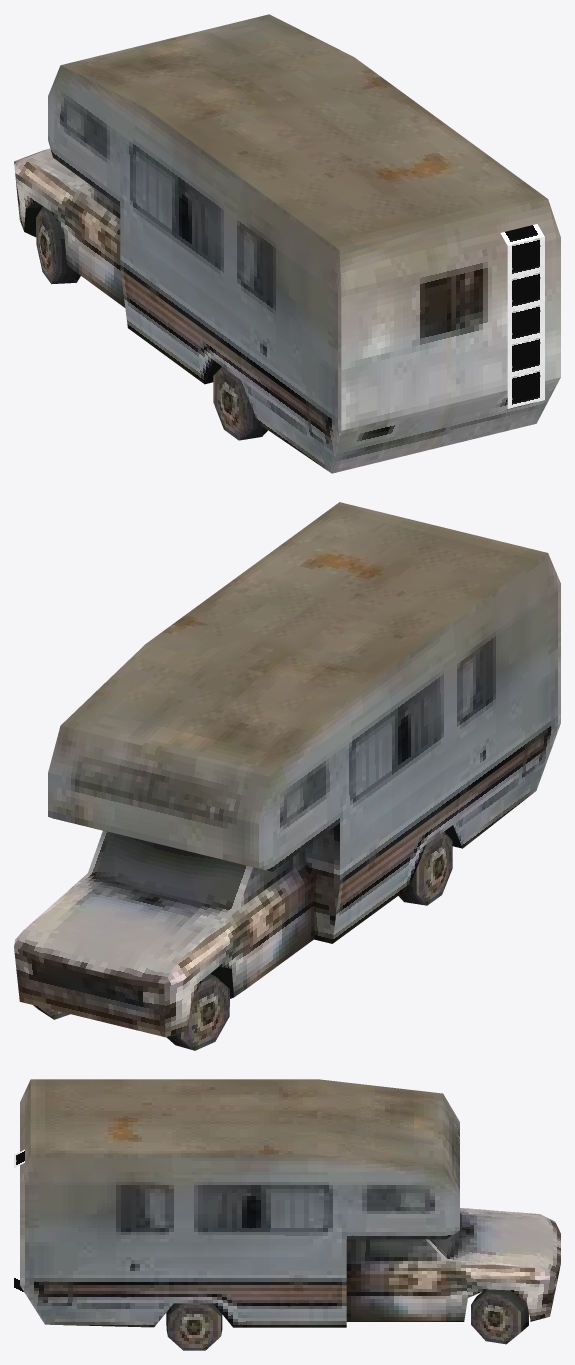
File: camper_with_1282_texture.glb
3 views of the same model, one above another, from view 1: azimuth 30°, elevation 25°; view 2: azimuth 150°, elevation 25°; view 3: azimuth 270°, elevation 25° (orthographic). The views are drawn at different scales.
Visible parts, largest first — view 1: subframe.001, subframe.002; view 2: subframe.001; view 3: subframe.001.
Boxes of the visible parts, x1=… form: subframe.001: x1=14, y1=14, x2=560, y2=473; subframe.002: x1=499, y1=224, x2=544, y2=411; subframe.001: x1=14, y1=502, x2=560, y2=1050; subframe.001: x1=20, y1=1079, x2=560, y2=1350.
Bounding box in the file's own units: 3.8 × 4.44 × 11.08.
2 materials, 2 textured.
